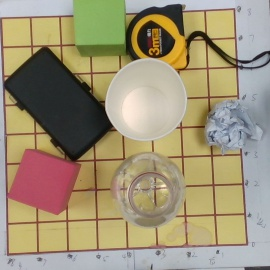bottle: (113, 152, 185, 227)
cup: (106, 59, 188, 141)
